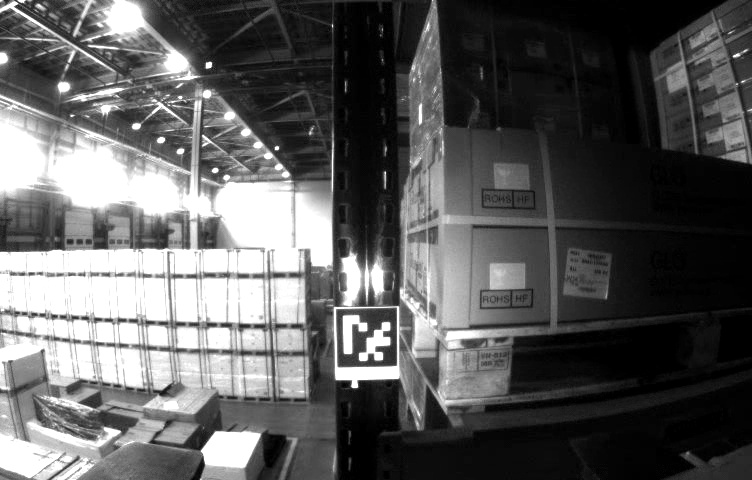True Barcode: (564, 244, 611, 300)
